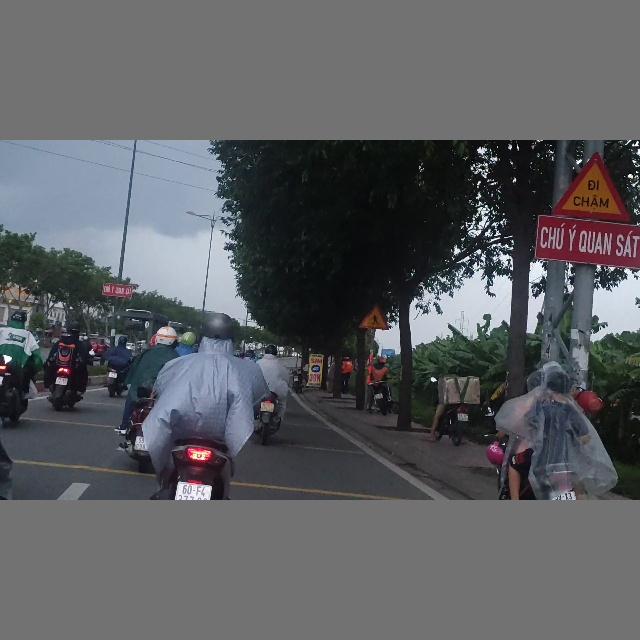W.224: (359, 303, 389, 329)
W.245a: (551, 151, 631, 220)
